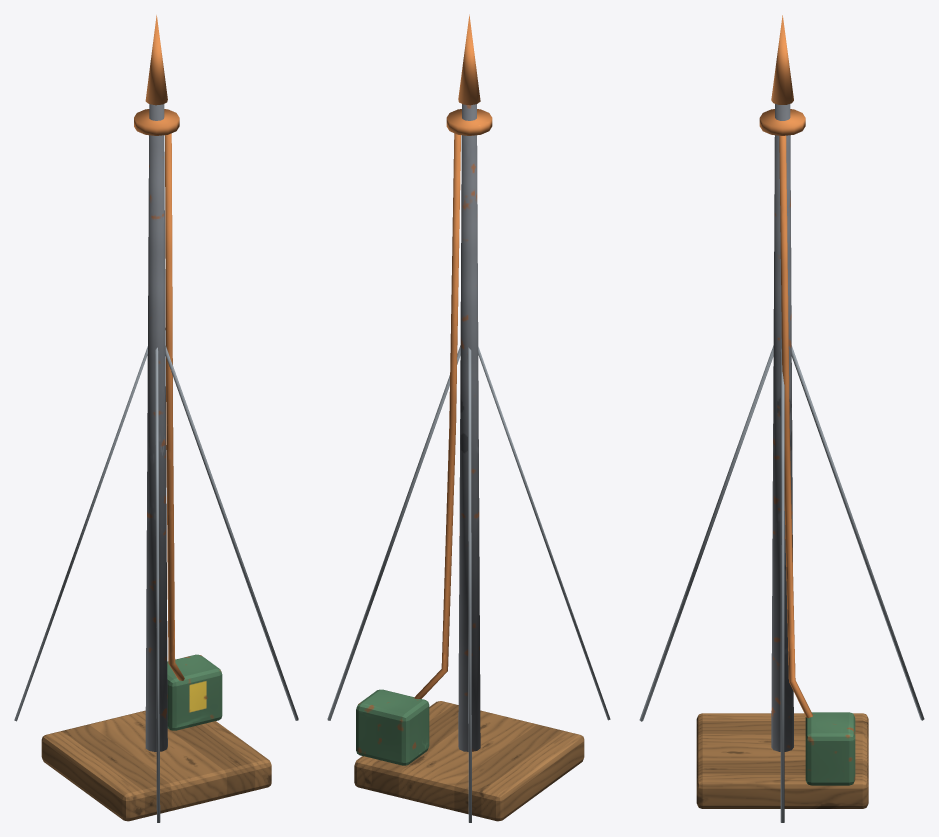
The model's file is lightning_rod.glb.
3 renders of one model, left to right at view 1: azimuth 30°, elevation 25°; view 2: azimuth 150°, elevation 25°; view 3: azimuth 270°, elevation 25°, orthographic.
Parts seen in each view (by area): view 1: LightningRod; view 2: LightningRod; view 3: LightningRod.
Part boxes in pixels (x1,y1,x2,y2): LightningRod: (14,15,298,822); LightningRod: (327,14,610,822); LightningRod: (639,15,924,822).
Bounding box in the file's own units: 1.31 × 4.4 × 1.49.
1 material, 1 textured.
